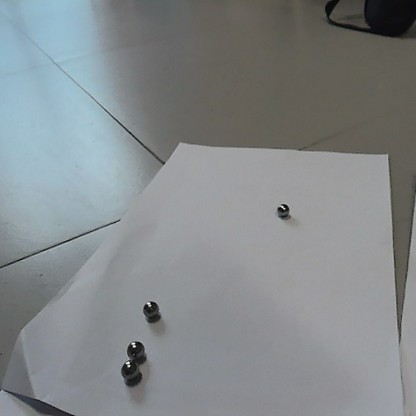ironball: (124, 336, 148, 361), (118, 362, 143, 383), (140, 298, 160, 317), (275, 201, 289, 218)
